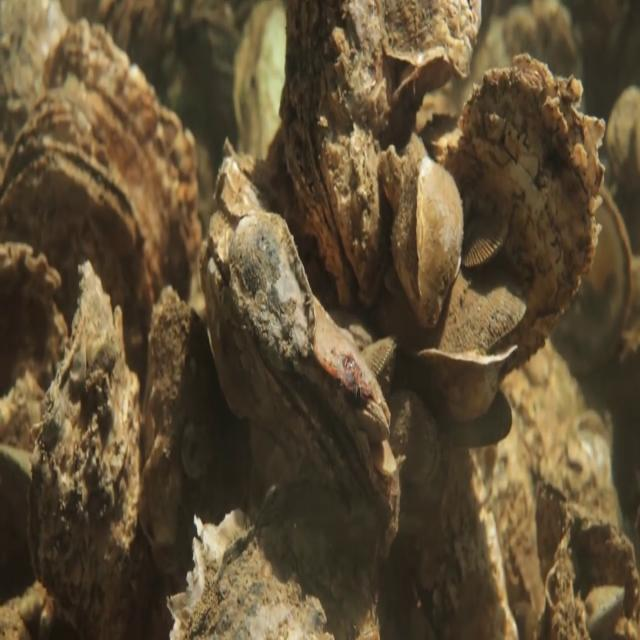Oyster-Closed: (195, 191, 401, 572), (443, 50, 610, 390), (0, 128, 163, 425), (27, 253, 141, 639), (276, 0, 388, 313), (390, 132, 465, 326), (385, 385, 443, 489), (358, 330, 397, 397), (354, 393, 391, 442)
Oyster-Indeterminate: (10, 20, 199, 306), (137, 283, 245, 587), (167, 507, 383, 638), (0, 242, 73, 462), (229, 202, 318, 374), (377, 0, 482, 79), (434, 382, 514, 448), (461, 217, 504, 276)
Oyster-Open: (410, 269, 532, 427)
